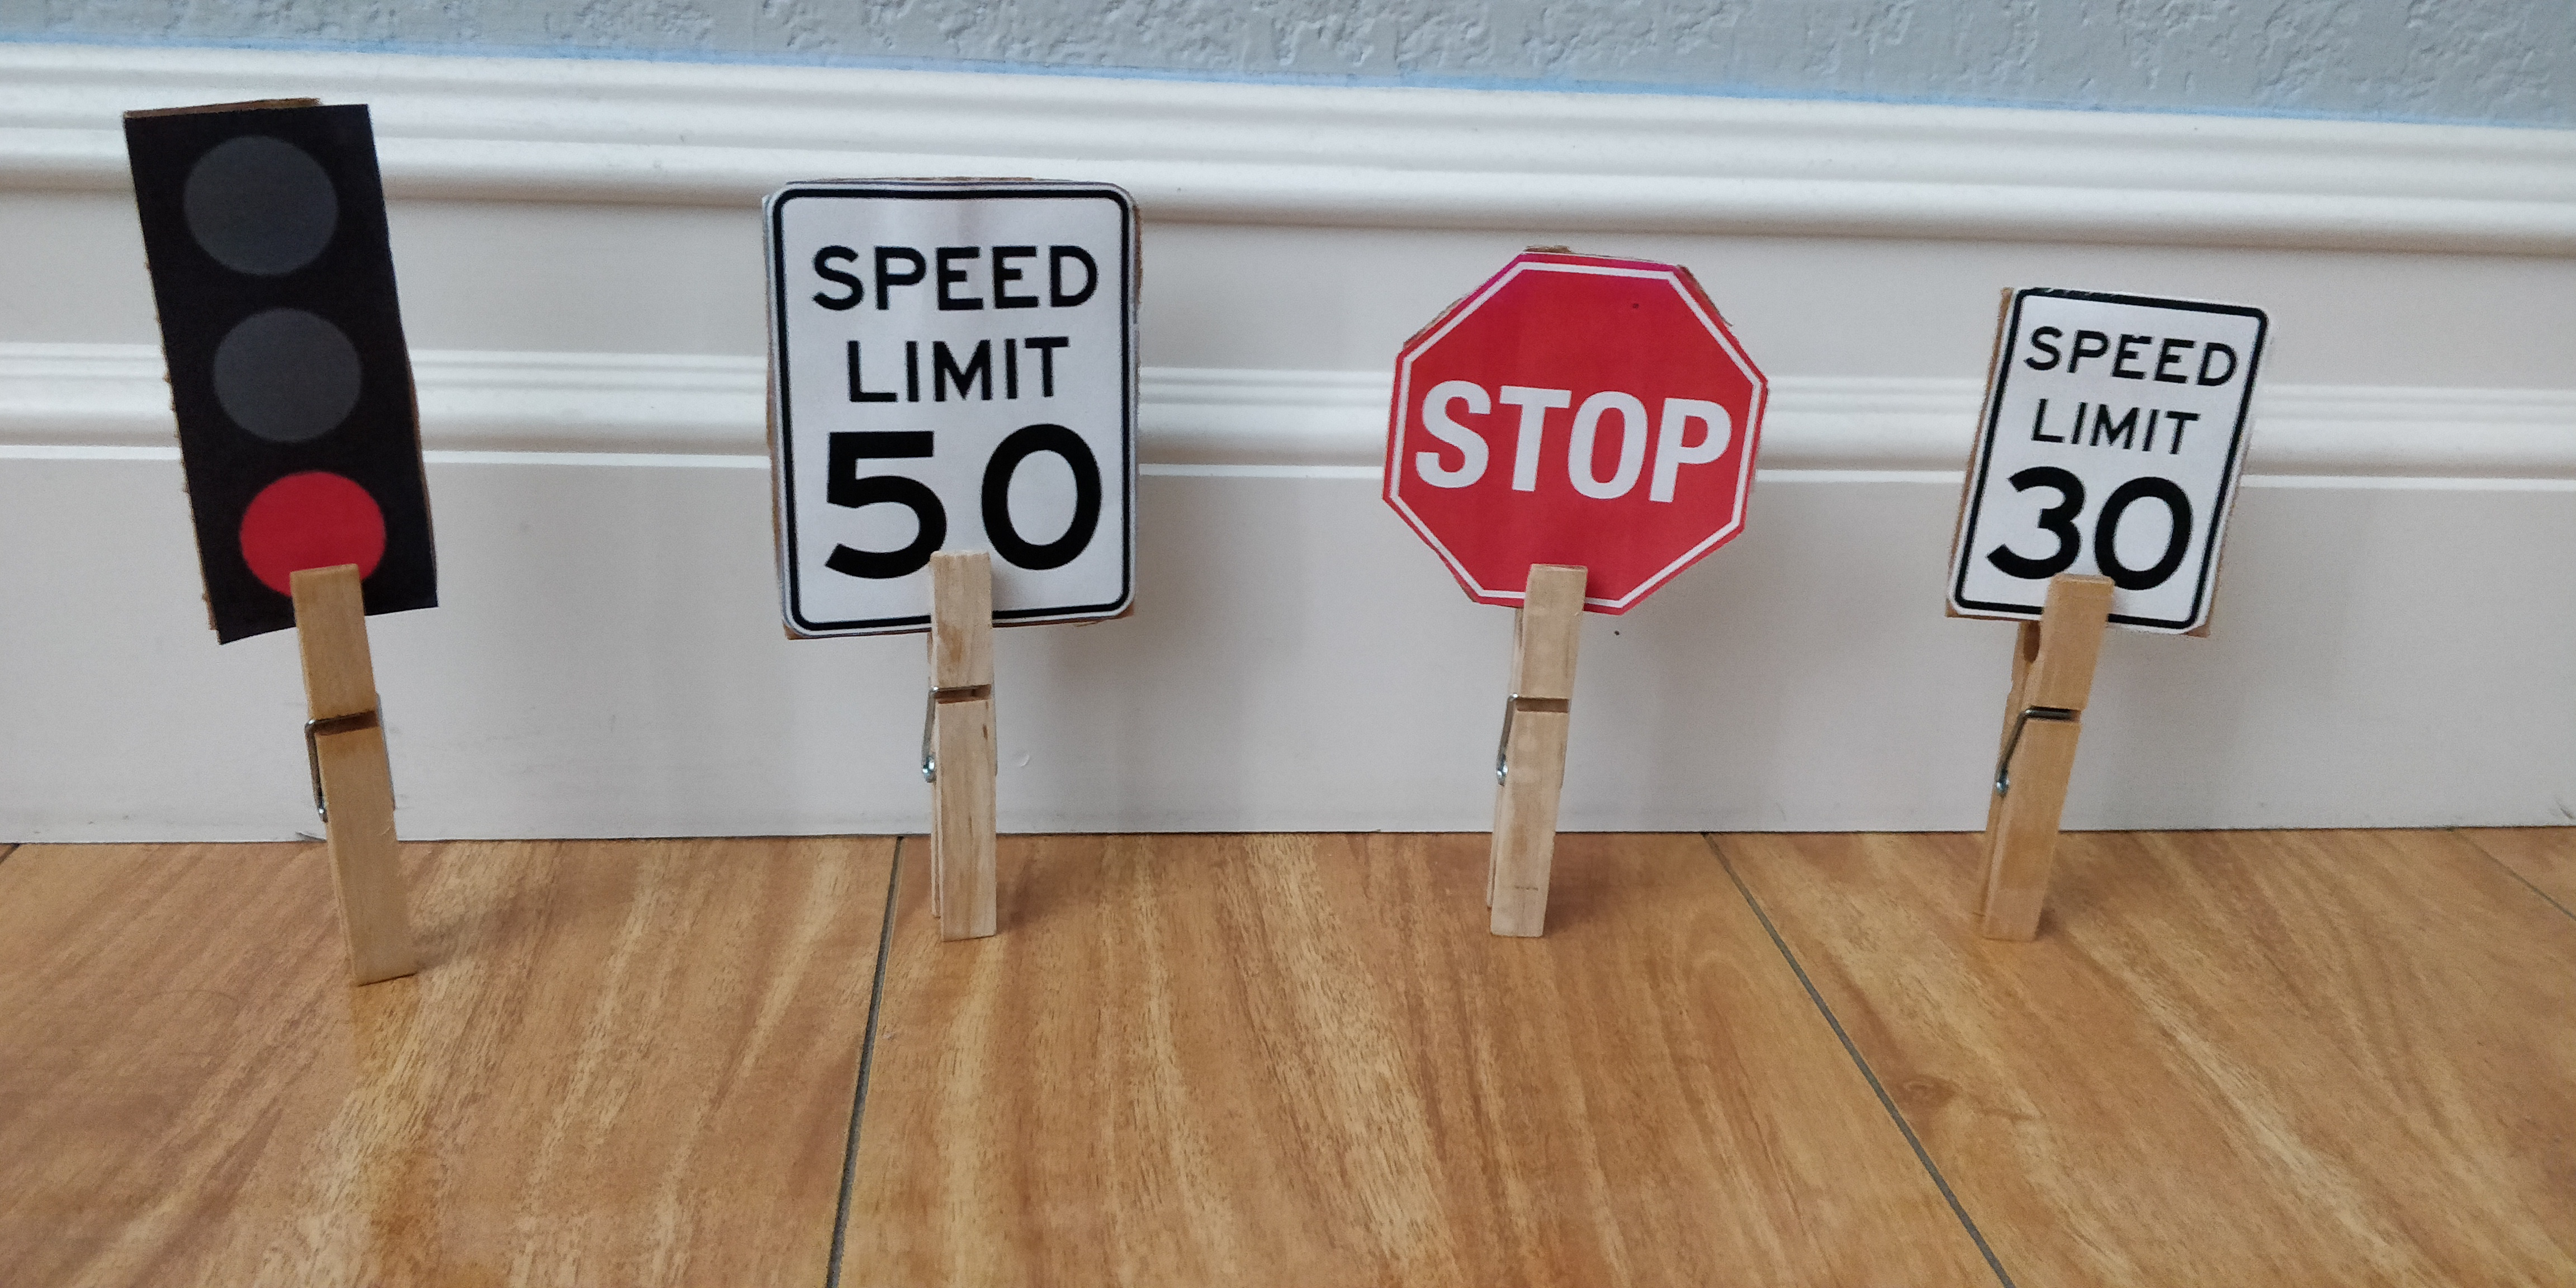Speed Limit 30: (1947, 286, 2270, 637)
Speed Limit 50: (766, 187, 1138, 631)
Stop Sign: (1387, 250, 1764, 616)
red light: (122, 97, 435, 644)
